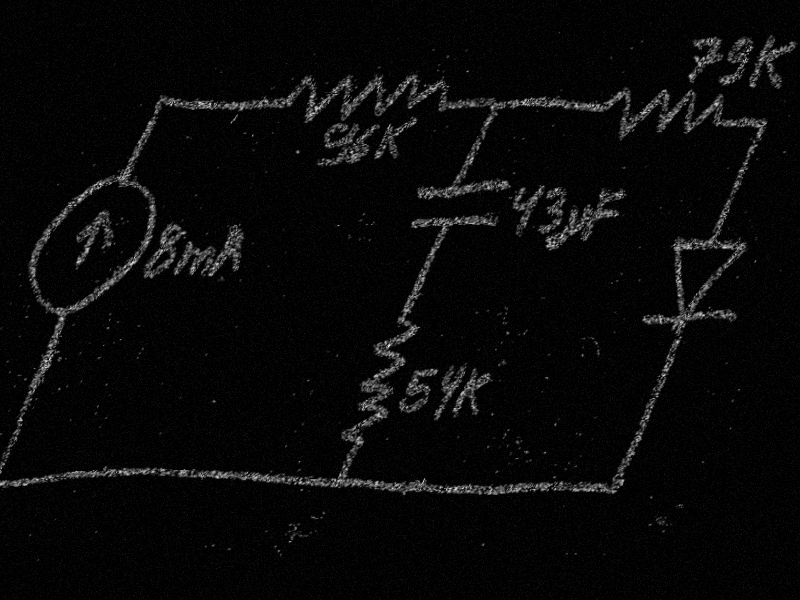3: (527, 186, 577, 237)
4: (495, 181, 549, 240), (424, 361, 470, 423)
5: (392, 366, 442, 415)
6: (343, 121, 382, 167)
7: (674, 33, 733, 84)
8: (137, 221, 192, 280)
9: (308, 121, 362, 170), (712, 36, 760, 87)
A: (205, 224, 257, 279)
F: (579, 187, 630, 241)
k: (742, 33, 800, 91), (449, 367, 497, 419), (370, 116, 418, 163)
m: (167, 240, 222, 279)
u: (551, 204, 594, 249)
